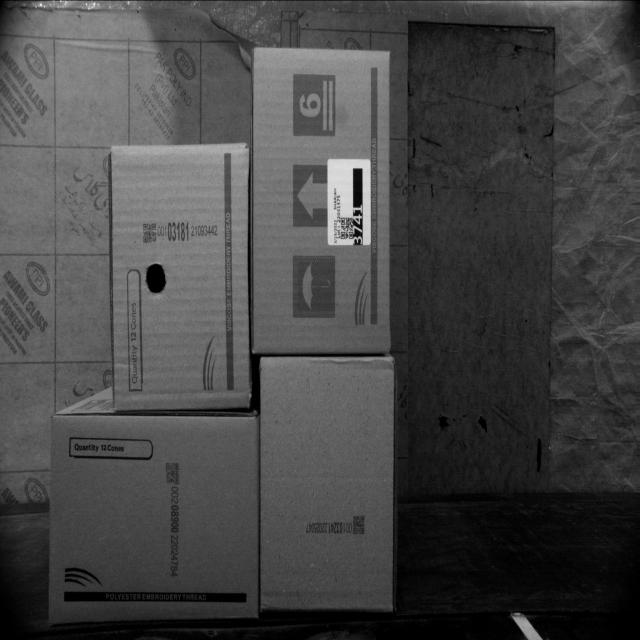cardboxes: (46, 412, 259, 622), (251, 48, 392, 355), (109, 146, 252, 409), (259, 357, 399, 610)
